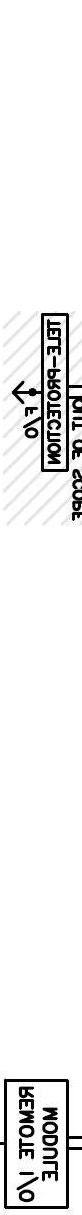remote_io_module: (4, 1078, 69, 1209)
tele_protection: (40, 312, 70, 473)
